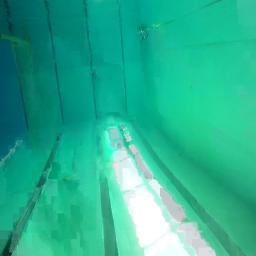Full: (137, 28, 149, 38), (90, 70, 96, 76)
